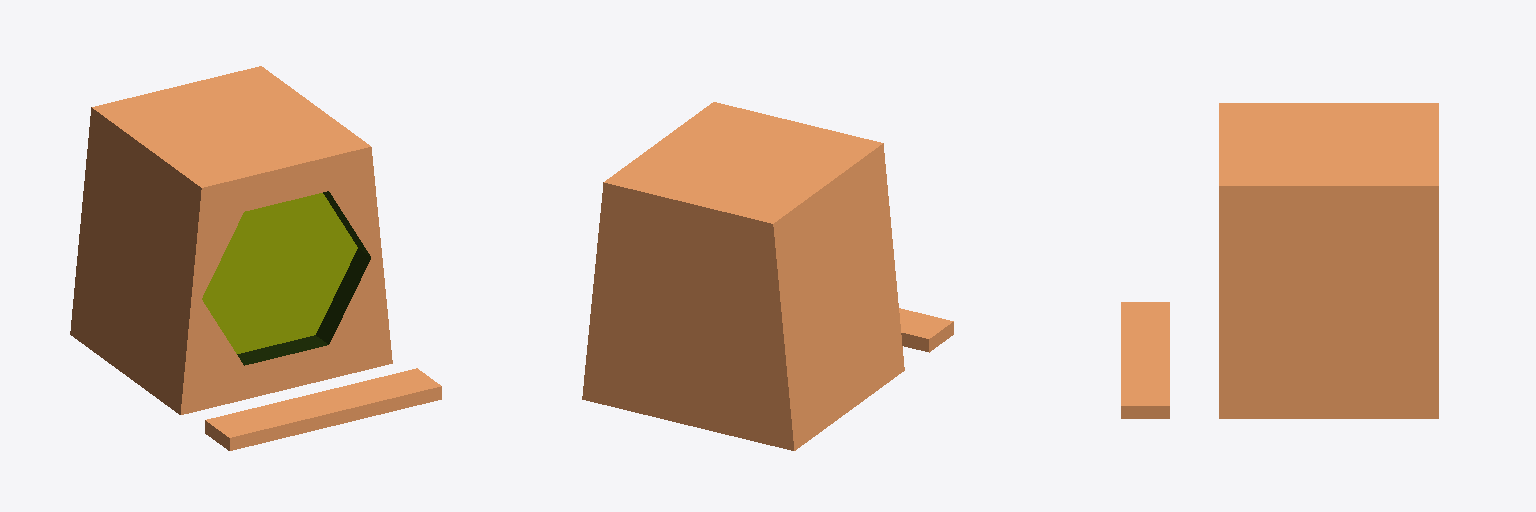
Rendered from computer6.obj.
3 renders of one model, left to right at view 1: azimuth 30°, elevation 25°; view 2: azimuth 150°, elevation 25°; view 3: azimuth 270°, elevation 25°, orthographic.
Parts seen in each view (by area): view 1: Mesh1 Model, Mesh2 Model; view 2: Mesh1 Model, Mesh2 Model; view 3: Mesh1 Model, Mesh2 Model.
Part boxes in pixels (x1,y1,x2,y2): Mesh1 Model: (70, 66, 392, 414); Mesh2 Model: (205, 368, 441, 450); Mesh1 Model: (582, 102, 904, 450); Mesh2 Model: (899, 308, 953, 352); Mesh1 Model: (1219, 103, 1438, 418); Mesh2 Model: (1121, 302, 1169, 418).
Size of the model in its own units: 0.5 by 0.5 by 0.65.